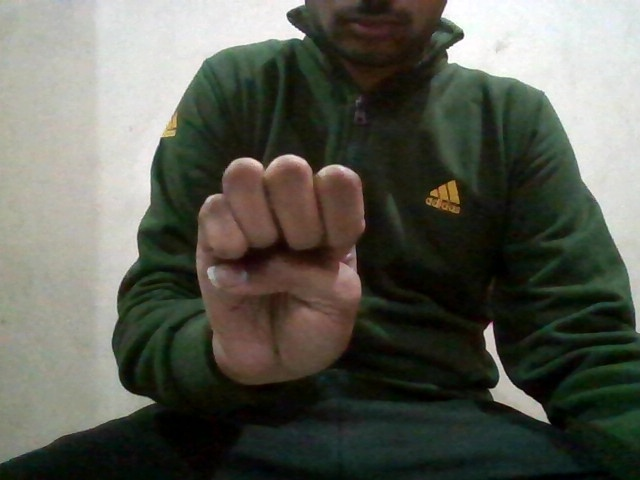E: (194, 153, 366, 379)
